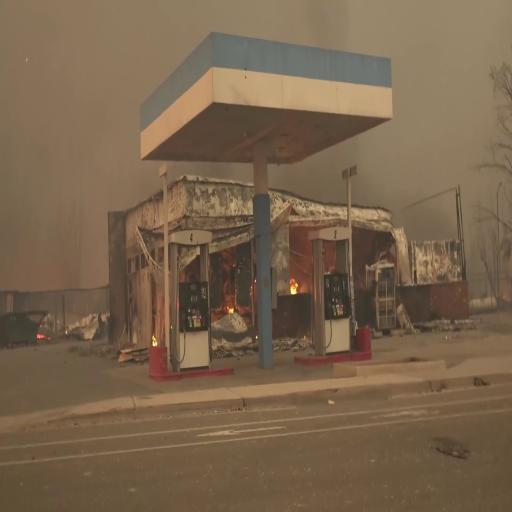smoke: (17, 0, 111, 205)
